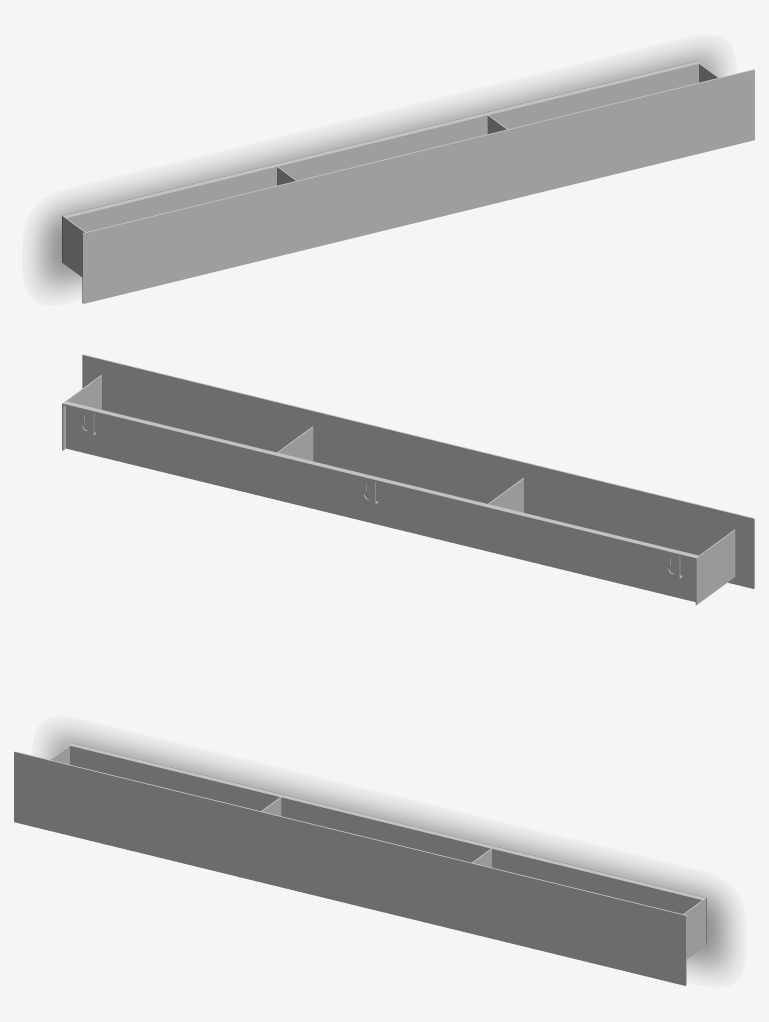
The model's file is skyline-mono.87f7c4b5a0.ar.glb.
3 views of the same model, one above another, from view 1: azimuth 30°, elevation 25°; view 2: azimuth 150°, elevation 25°; view 3: azimuth 330°, elevation 25° (orthographic).
Visible parts, largest first — view 1: NAUO1, object 2; view 2: NAUO1; view 3: NAUO1, object 2.
Part boxes in pixels (x1,y1,x2,y2): NAUO1: (62, 61, 754, 303); object 2: (36, 51, 722, 288); NAUO1: (62, 354, 754, 604); NAUO1: (14, 743, 706, 985); object 2: (46, 733, 732, 970).
Size of the model in its own units: 0.98 by 0.17 by 0.092.
2 materials, 1 textured.
